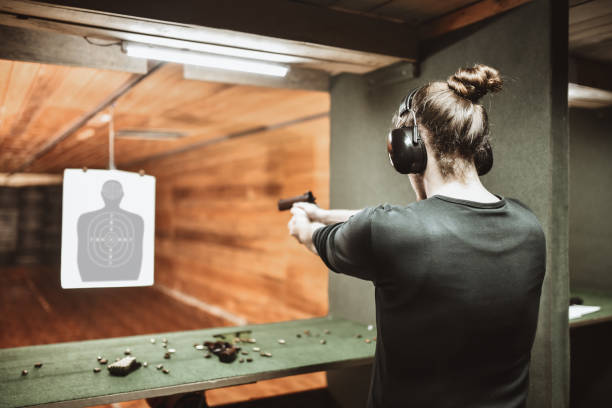gun: (278, 190, 317, 212)
